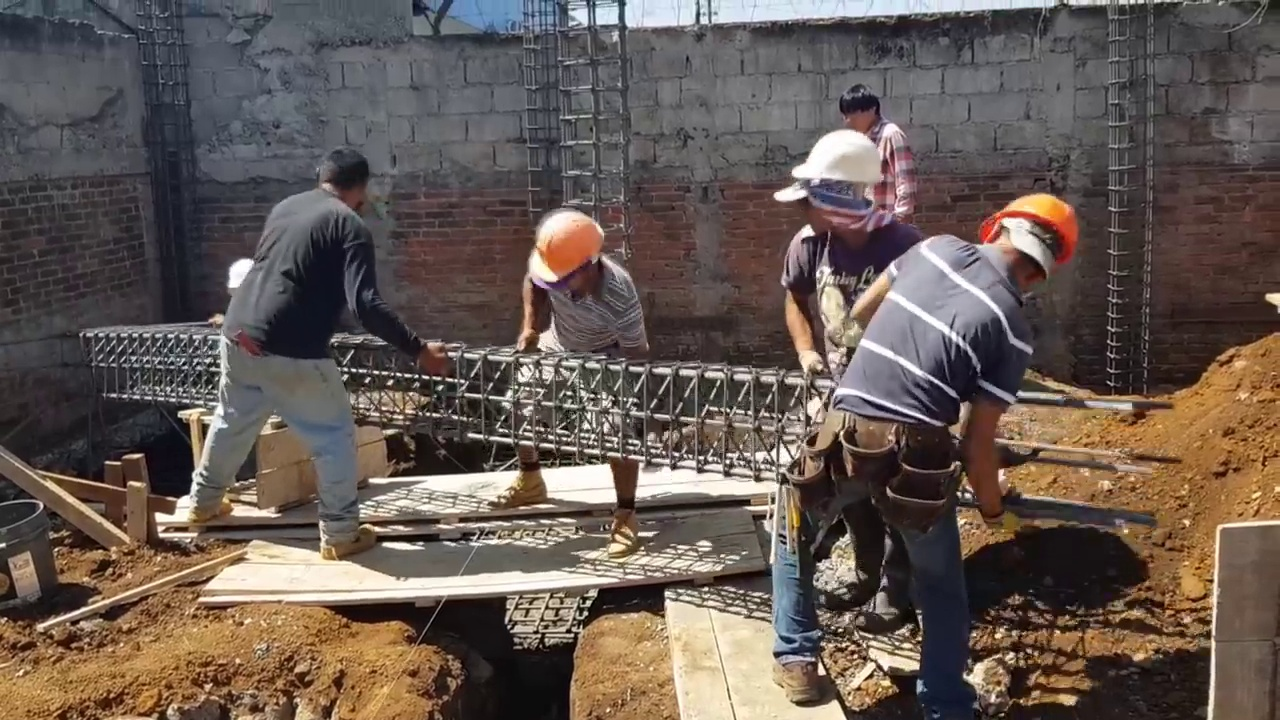helmet: (775, 132, 883, 209), (989, 191, 1080, 278), (531, 210, 601, 296)
helmet-off: (314, 149, 373, 213), (844, 87, 889, 133)
helmet-on: (970, 172, 1084, 300), (775, 133, 886, 244), (524, 207, 606, 302)
person: (769, 171, 1086, 677), (187, 138, 449, 577), (508, 205, 650, 547), (772, 126, 933, 413), (839, 80, 920, 237)
